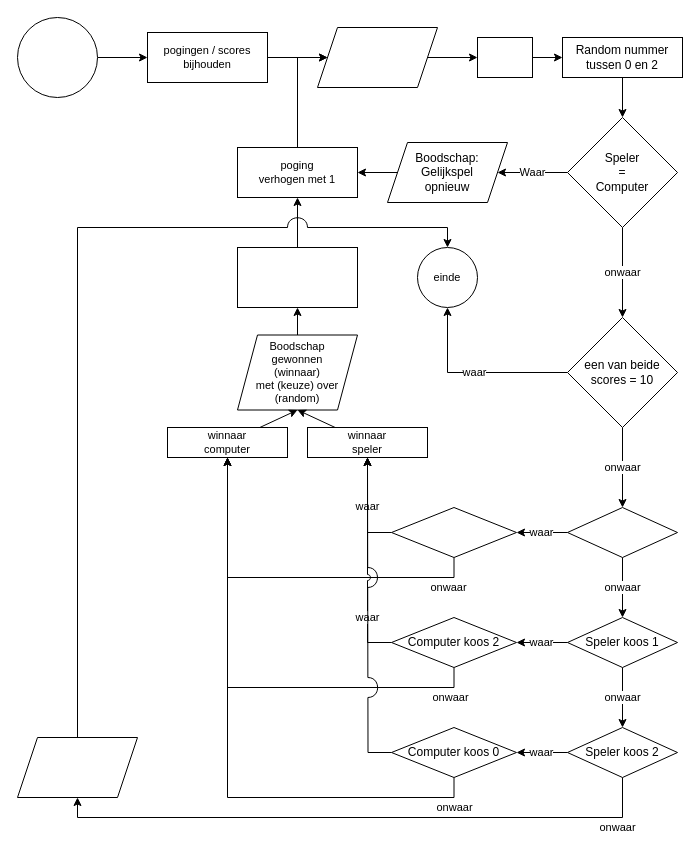
The diagram is 700 pixels wide and 851 high, and some of its shapes have lost their labels. Here are the shapes that lost their labels. From the top down, the centre of each, then its label:
At (57,57): "Start".
At (377,57): "Vraag Blad (0), steen(1) of schaar (2)".
At (504,57): "bewaar keuze".
At (297,277): "verhoog score winnaar met 1".
At (453,532): "Computer koos 1".
At (622,532): "Speler koos 0".
At (77,767): "Boodschap kan niet start opnieuw".
